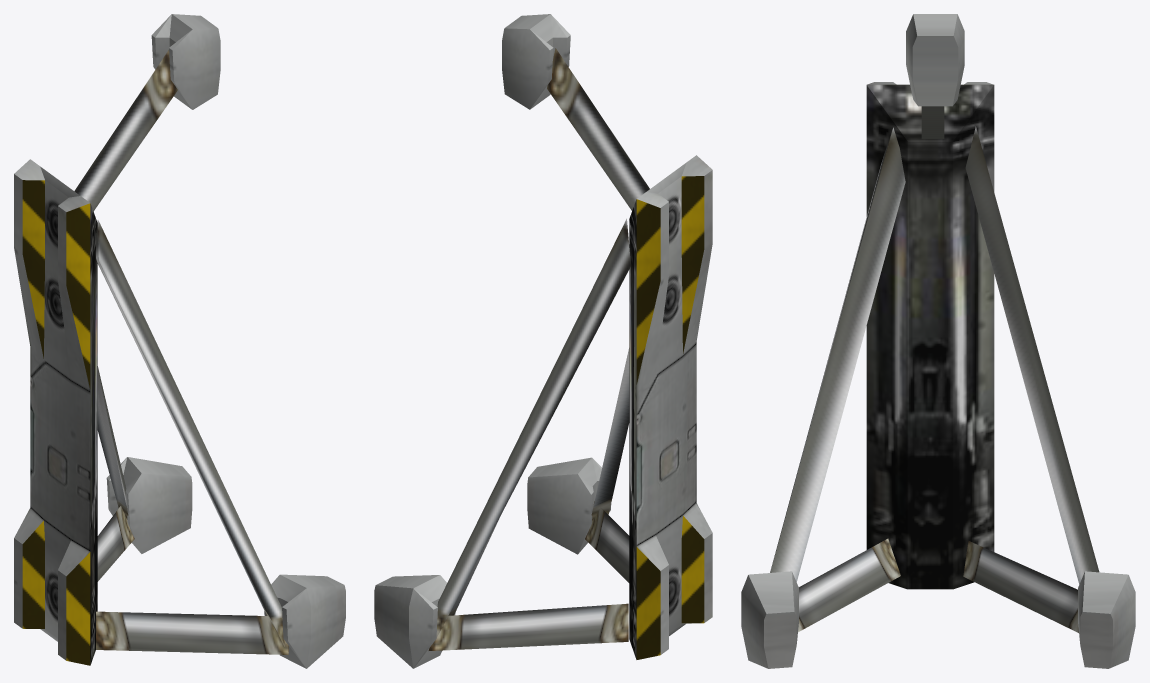
The model's file is decoupler.DAE.
3 renders of one model, left to right at view 1: azimuth 30°, elevation 25°; view 2: azimuth 150°, elevation 25°; view 3: azimuth 270°, elevation 25°, orthographic. The views are drawn at different scales.
Parts seen in each view (by area): view 1: base-Pivot, anchor-Pivot; view 2: base-Pivot, anchor-Pivot; view 3: base-Pivot, anchor-Pivot.
Boxes of the visible parts, x1=… form: base-Pivot: x1=14, y1=50, x2=288, y2=665; anchor-Pivot: x1=106, y1=14, x2=345, y2=668; base-Pivot: x1=428, y1=48, x2=712, y2=659; anchor-Pivot: x1=374, y1=14, x2=611, y2=668; base-Pivot: x1=770, y1=82, x2=1099, y2=632; anchor-Pivot: x1=741, y1=14, x2=1135, y2=668.
Size of what is drawn, in the model's own units: 0.4349 by 1.08 by 0.6158.
